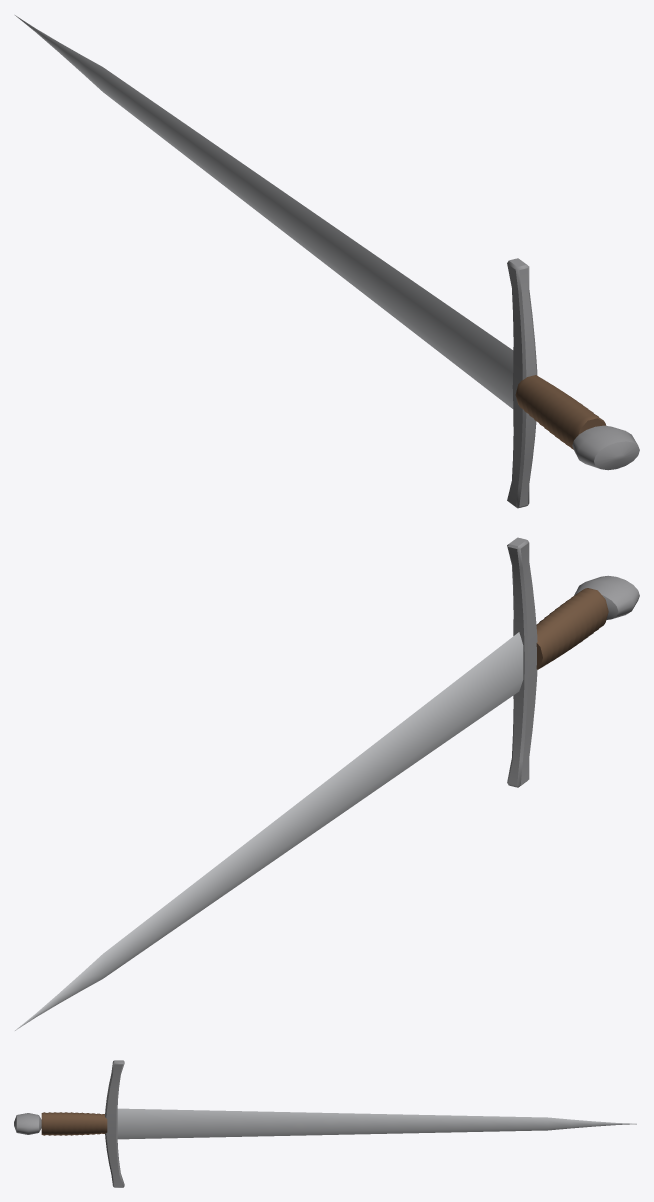
The model's file is arming_sword.glb.
3 renders of one model, top to bottom at view 1: azimuth 30°, elevation 25°; view 2: azimuth 150°, elevation 25°; view 3: azimuth 270°, elevation 25°, orthographic. The views are drawn at different scales.
Visible parts, largest first — view 1: arming_sword; view 2: arming_sword; view 3: arming_sword.
Boxes of the visible parts, <box> form: arming_sword: <box>15,15,639,508</box>; arming_sword: <box>15,537,639,1030</box>; arming_sword: <box>14,1060,636,1187</box>.
Bounding box in the file's own units: 0.052 × 0.21 × 0.954.
